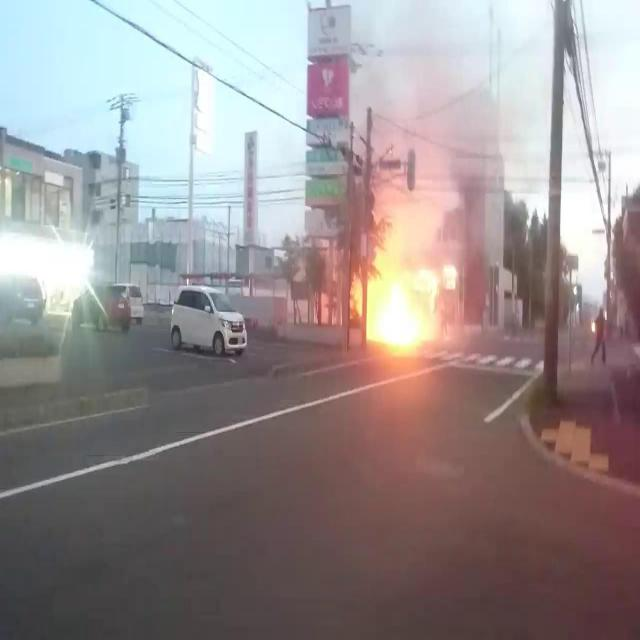fire: (359, 180, 445, 355)
